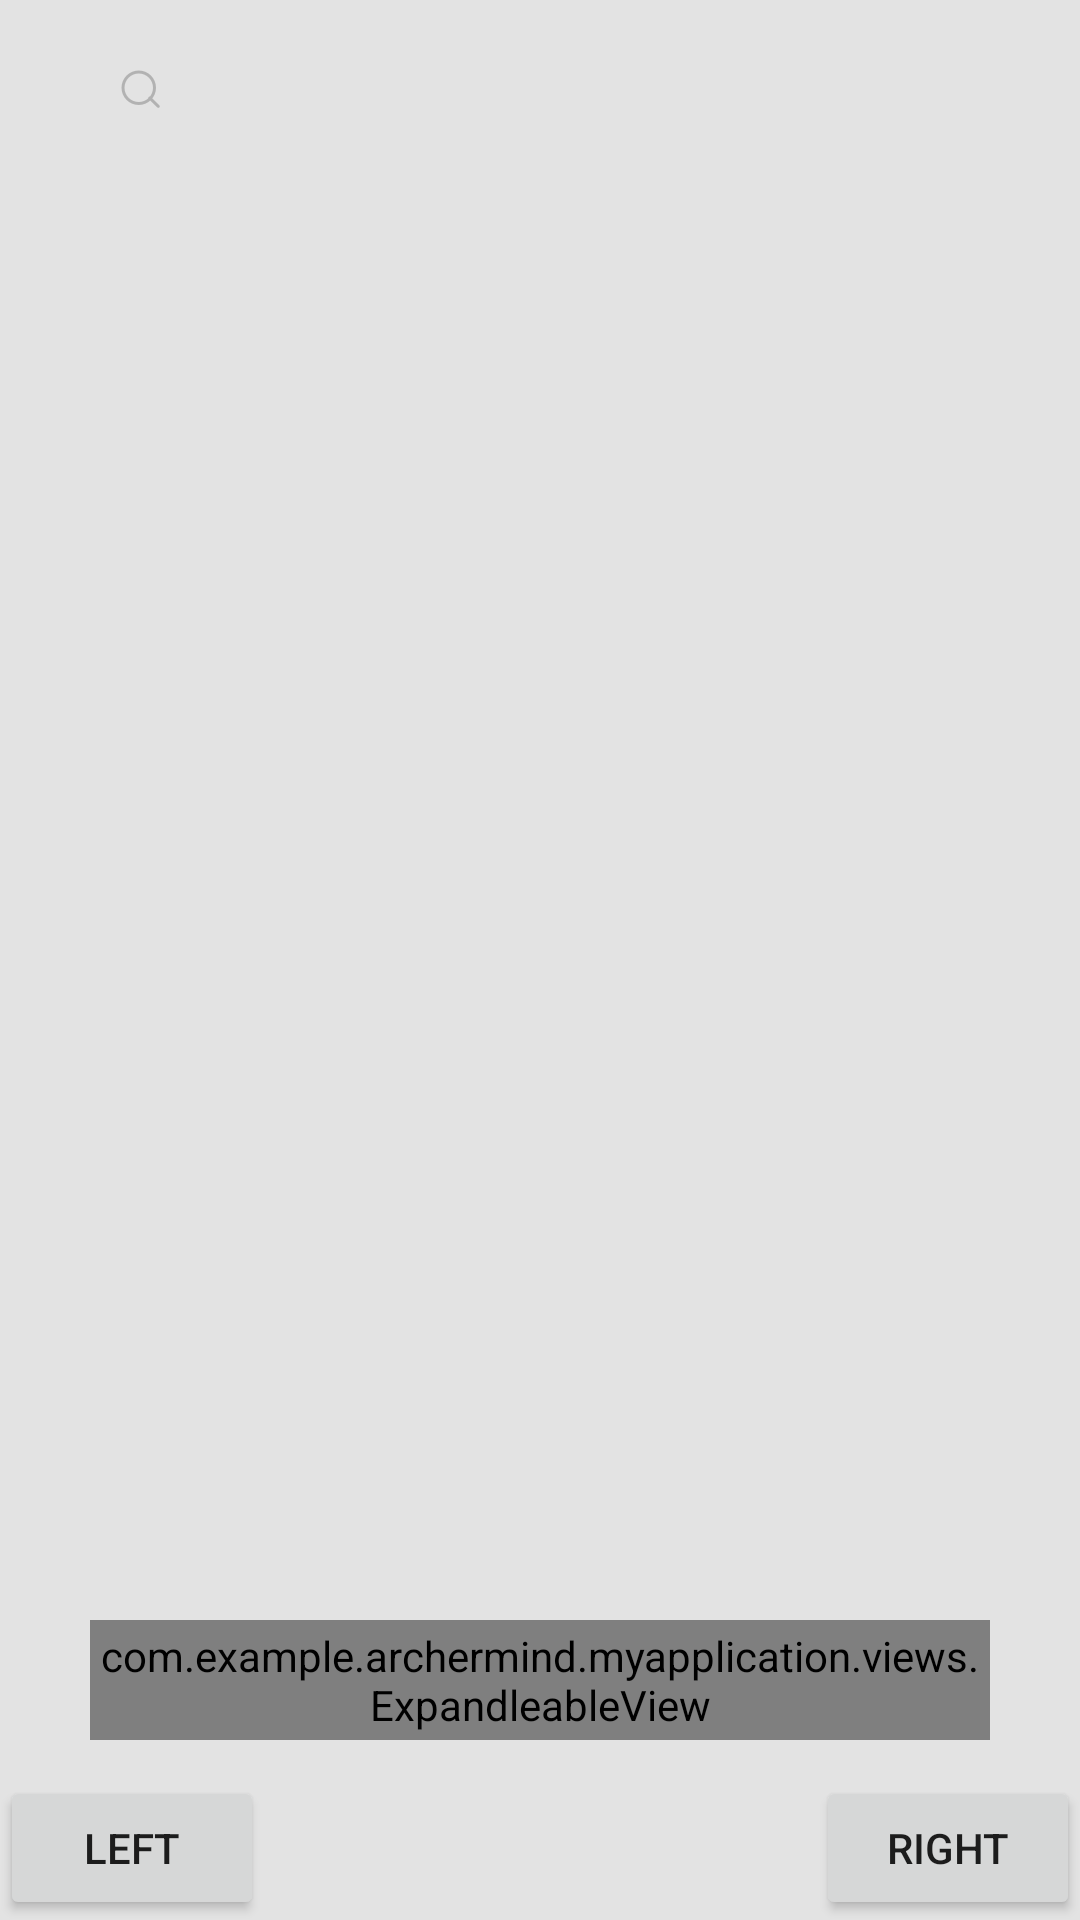

Where to tap for icons on this 1080w x 1920h app screen, as (x,y):
bar search: (141,89)
